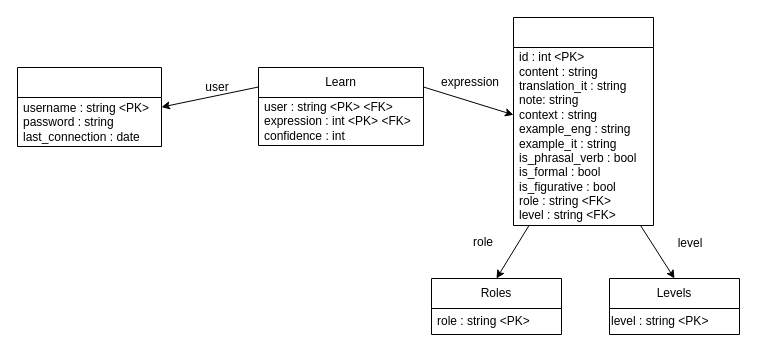
Image size: 757x352. Some labels were removed from this diagram. Each missing label, with the box of its shape:
Expressions: (512, 16, 654, 226)
Users: (16, 66, 162, 146)
